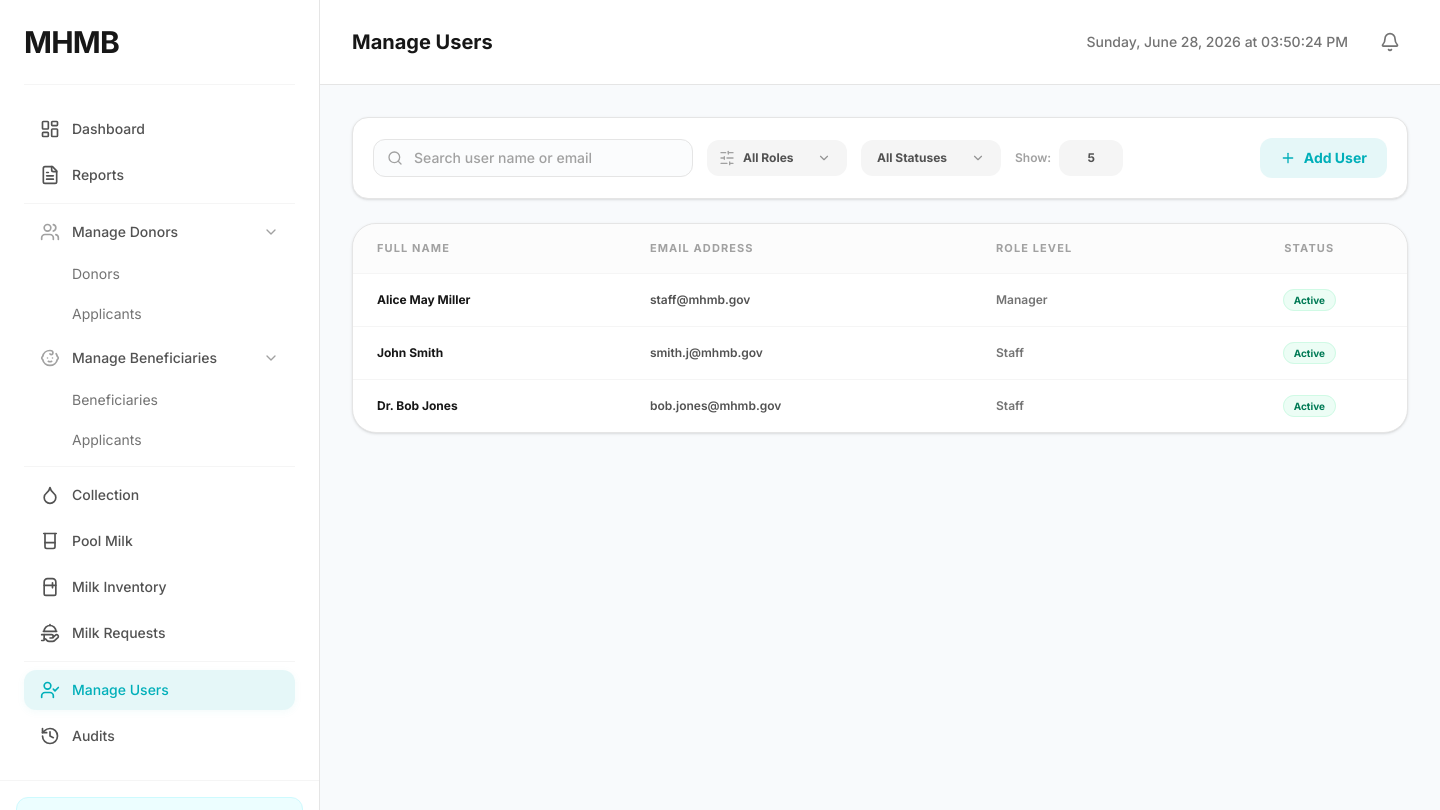
StaffUsersManagement Component (API Integrated) › shows validation error when reset passwords do not match
Open detail modal for John Smith
Click the row with test id "row-U-UUID-002" at [880, 352], box [353, 326, 1407, 379]
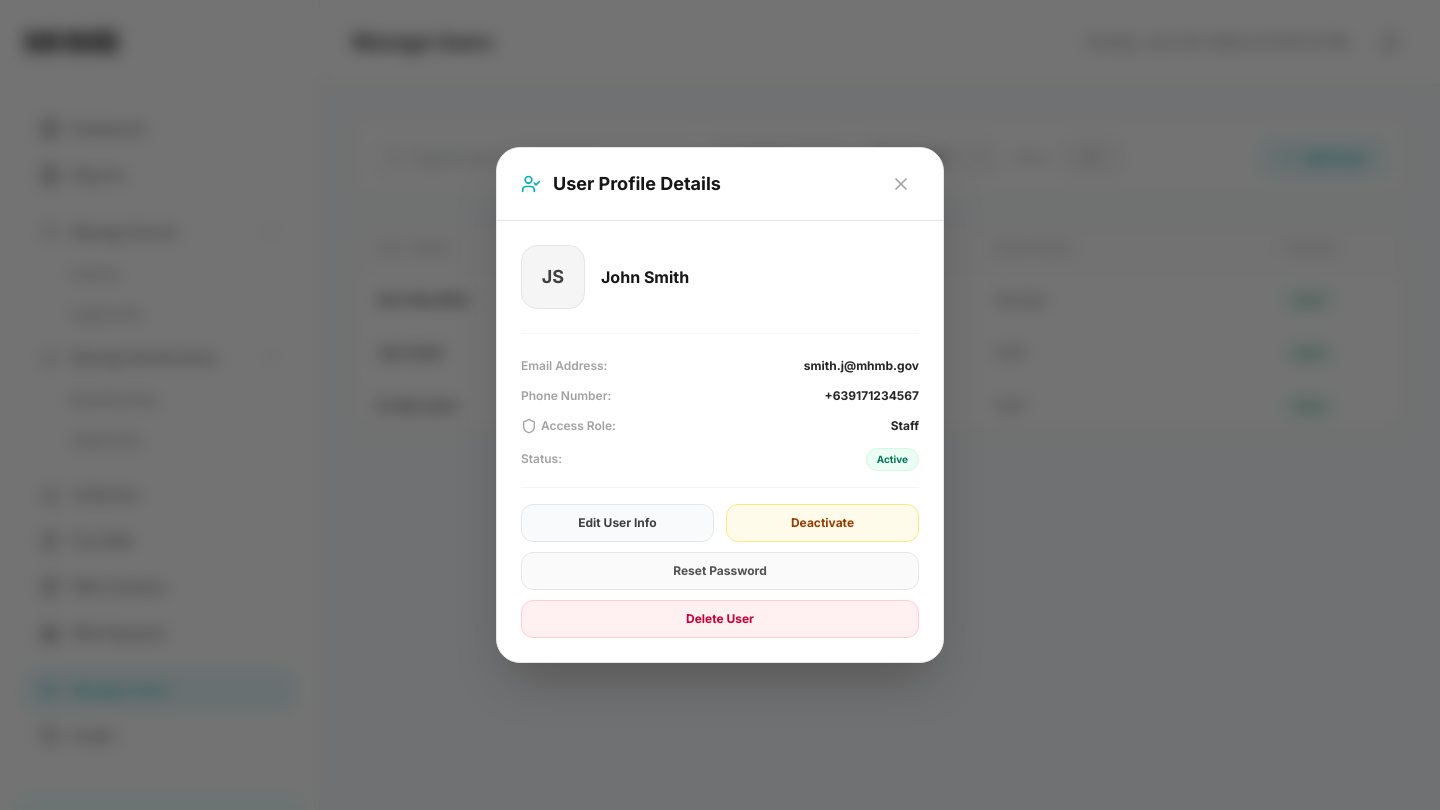
Click Reset Password
Click the button with test id "reset-password-btn" at [720, 571], box [521, 552, 919, 590]
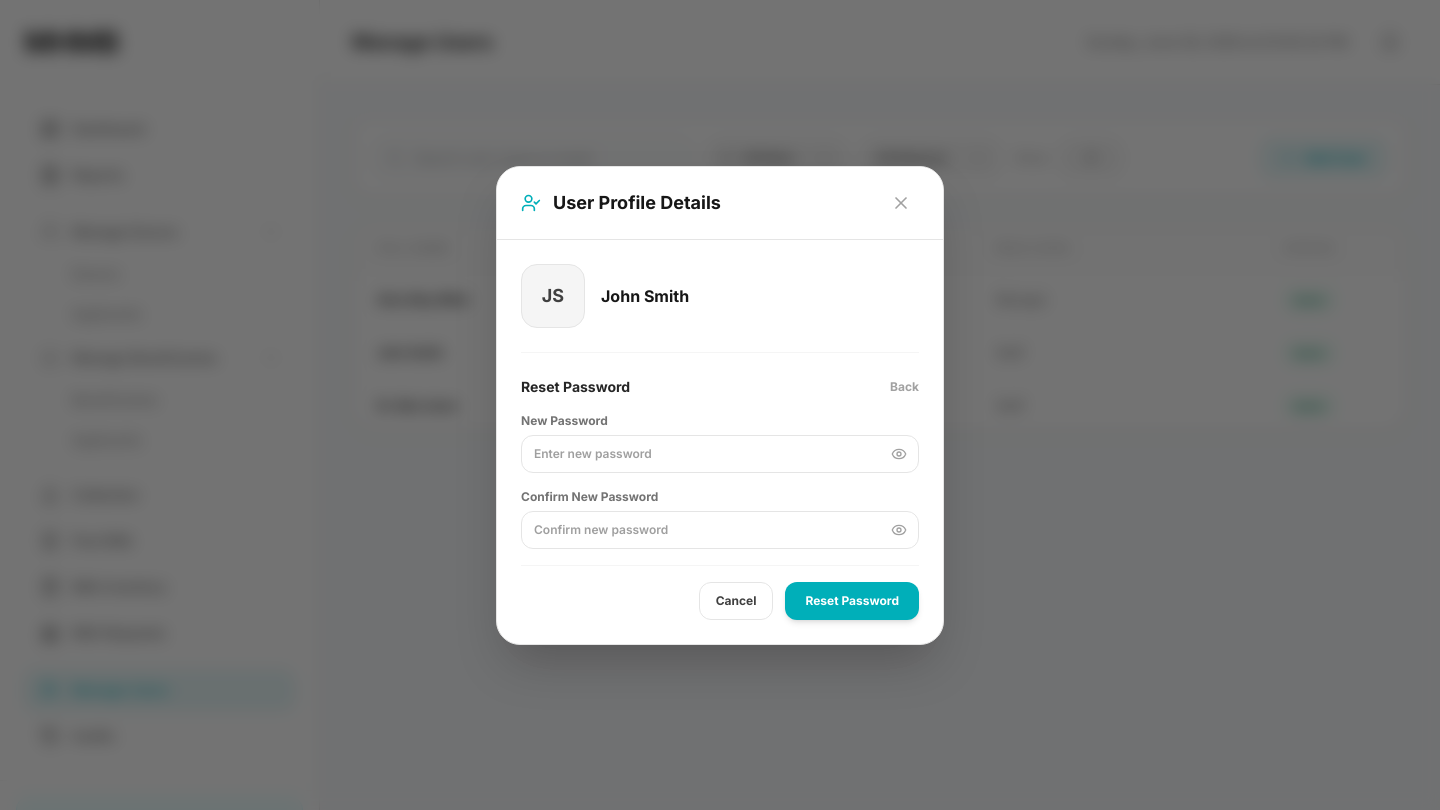
Fill mismatched password details
Type "pass123" into the password field with test id "reset-password-input" at [720, 454], box [521, 434, 919, 472]
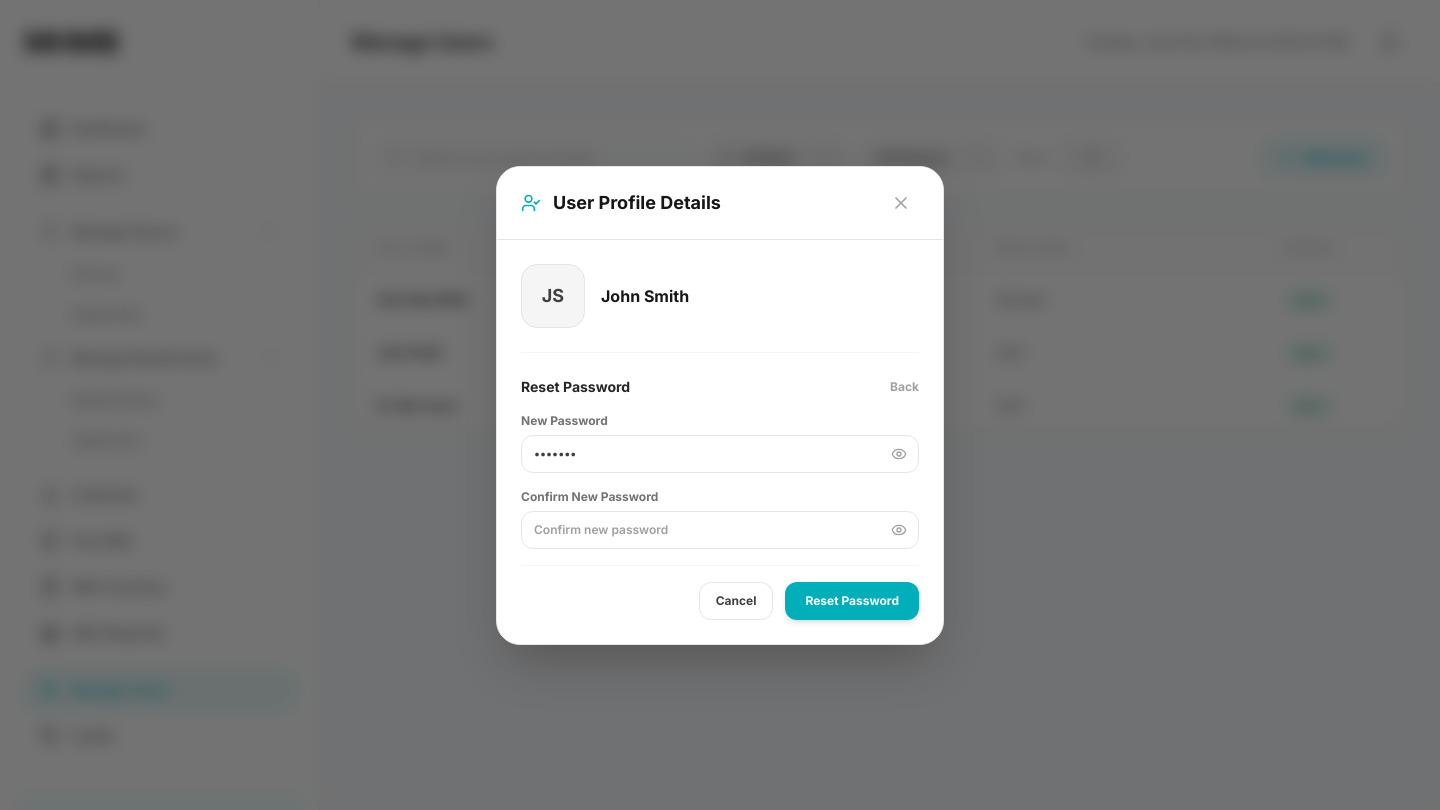
Type "pass456" into the password field with test id "confirm-reset-password-input" at [720, 530], box [521, 510, 919, 548]
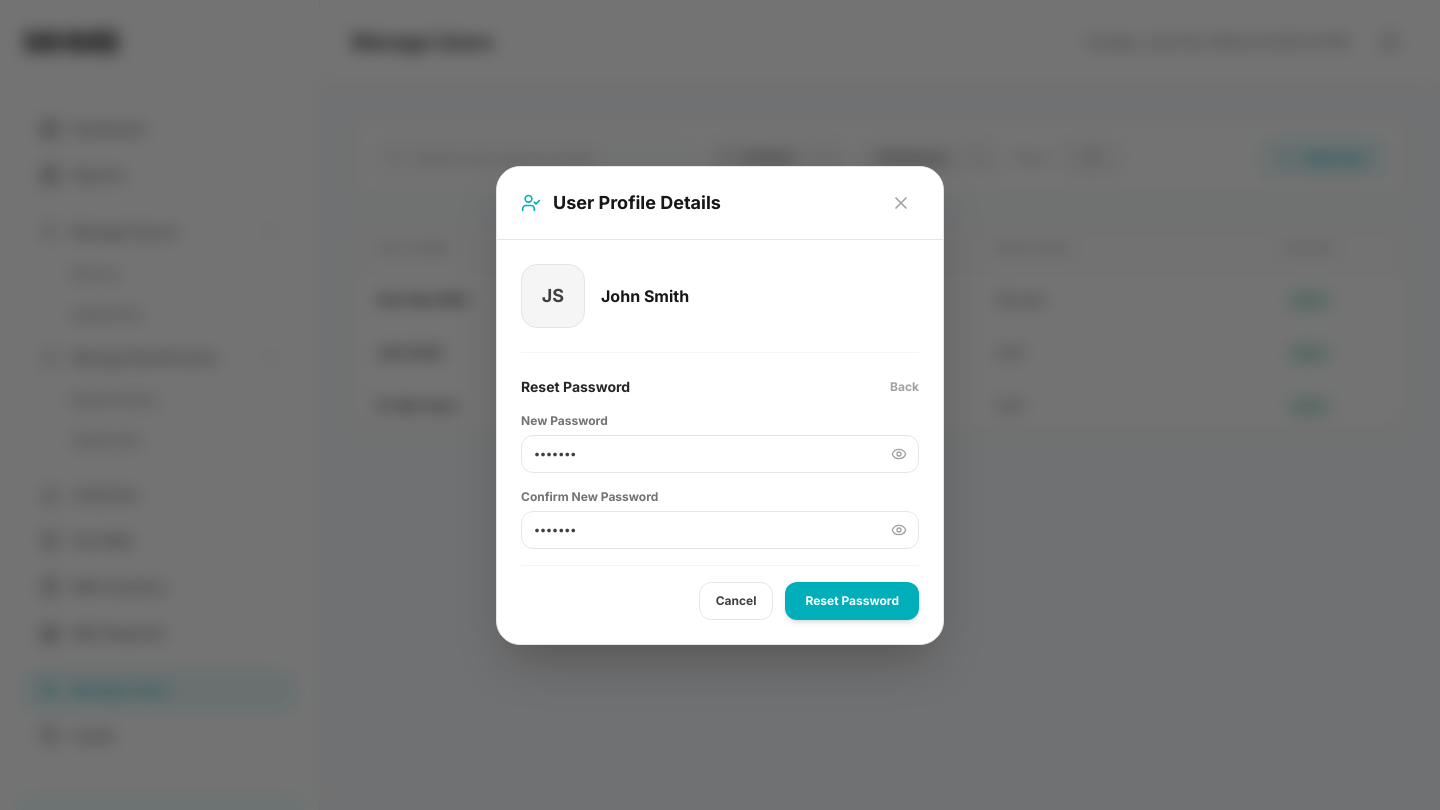
Submit the form from the button with test id "submit-reset-password-btn", box [785, 582, 919, 620]
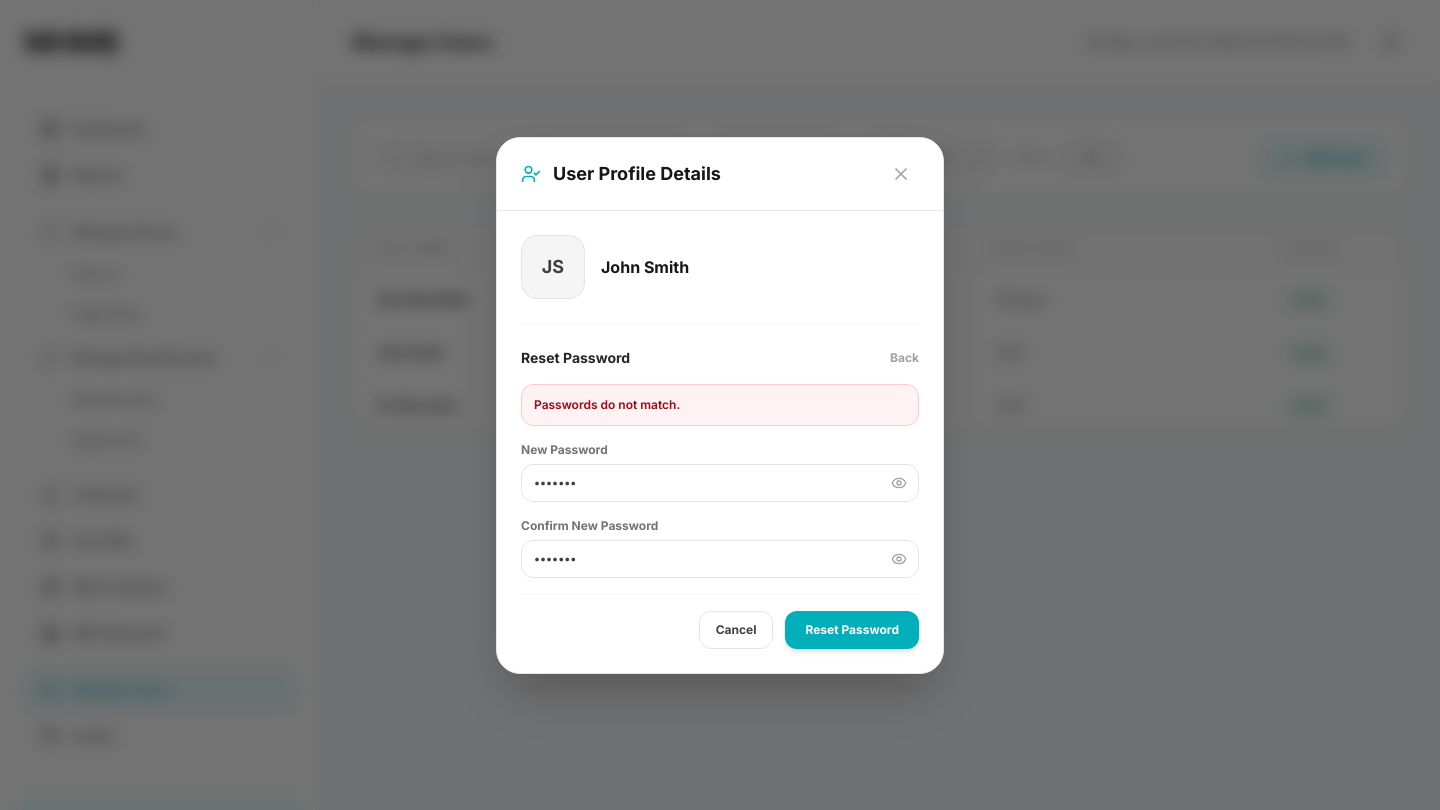
Expected: the text with test id "reset-password-error" reads "Passwords do not match.", [534, 396, 680, 412]
